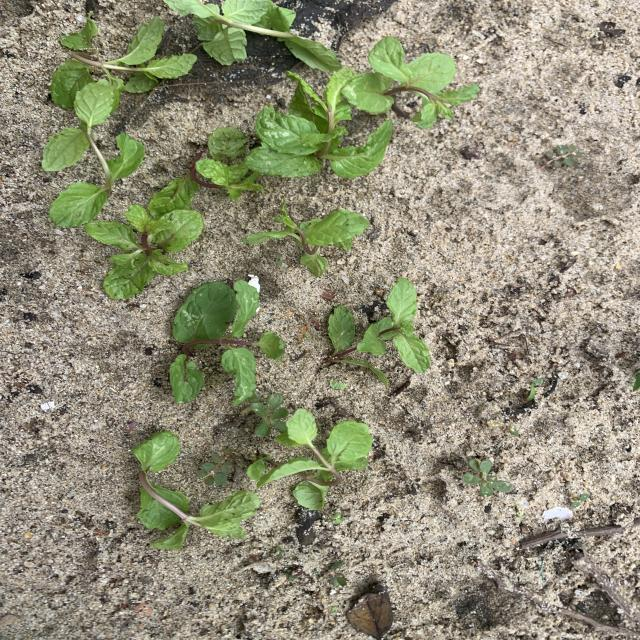crop: (44, 14, 195, 174), (245, 68, 392, 178), (132, 431, 259, 549), (169, 280, 283, 405), (342, 37, 479, 129), (248, 409, 371, 509), (167, 1, 340, 71), (325, 278, 430, 383), (86, 204, 202, 298), (152, 126, 263, 213), (244, 204, 368, 275)
weed: (463, 459, 511, 495), (250, 394, 287, 435), (197, 450, 232, 483), (544, 145, 583, 167), (525, 378, 542, 401), (329, 561, 346, 584), (572, 493, 588, 507), (329, 574, 346, 586), (330, 381, 347, 390), (331, 512, 343, 523), (285, 568, 295, 579), (274, 547, 283, 557)
